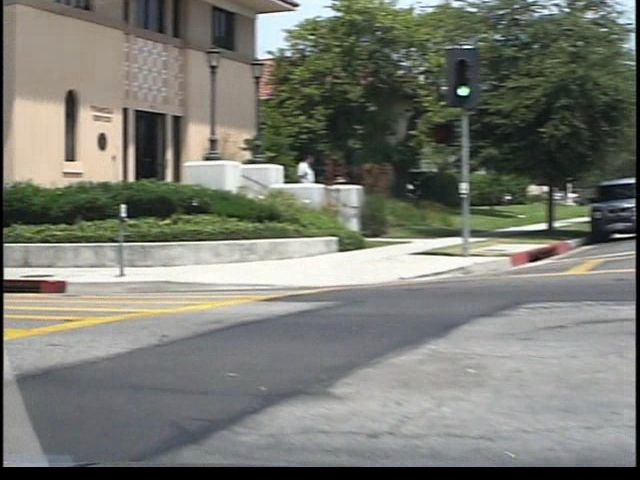person: (281, 150, 304, 220)
